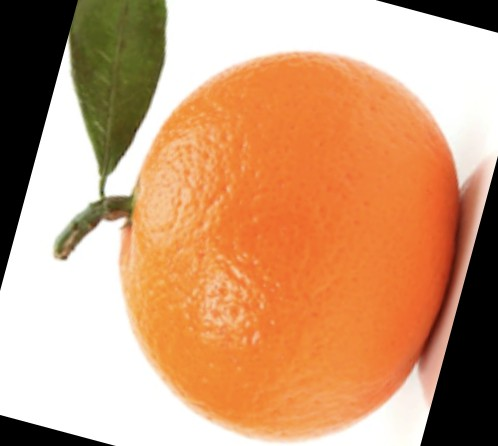fresh_orange: (114, 52, 463, 441)
